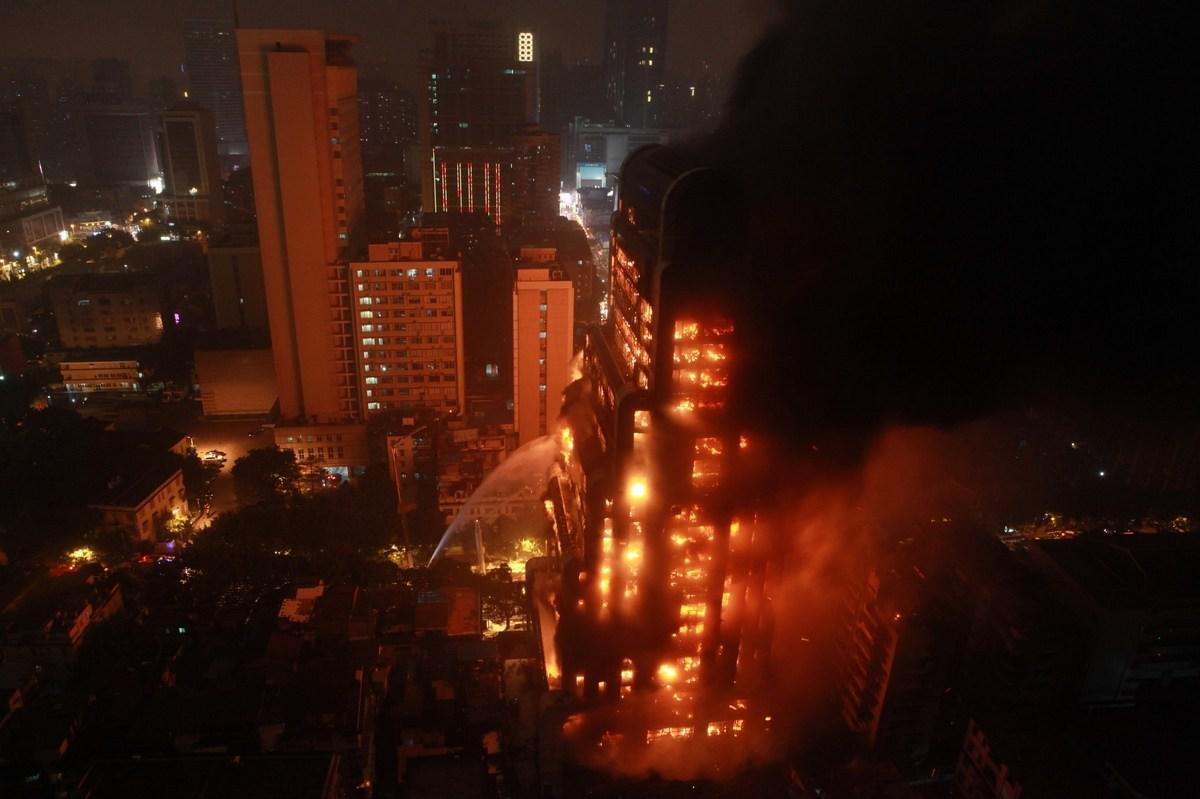fire: (551, 389, 666, 616), (607, 260, 739, 421), (652, 635, 748, 753), (667, 502, 745, 638), (680, 429, 760, 494), (573, 654, 632, 696), (543, 645, 560, 689)
